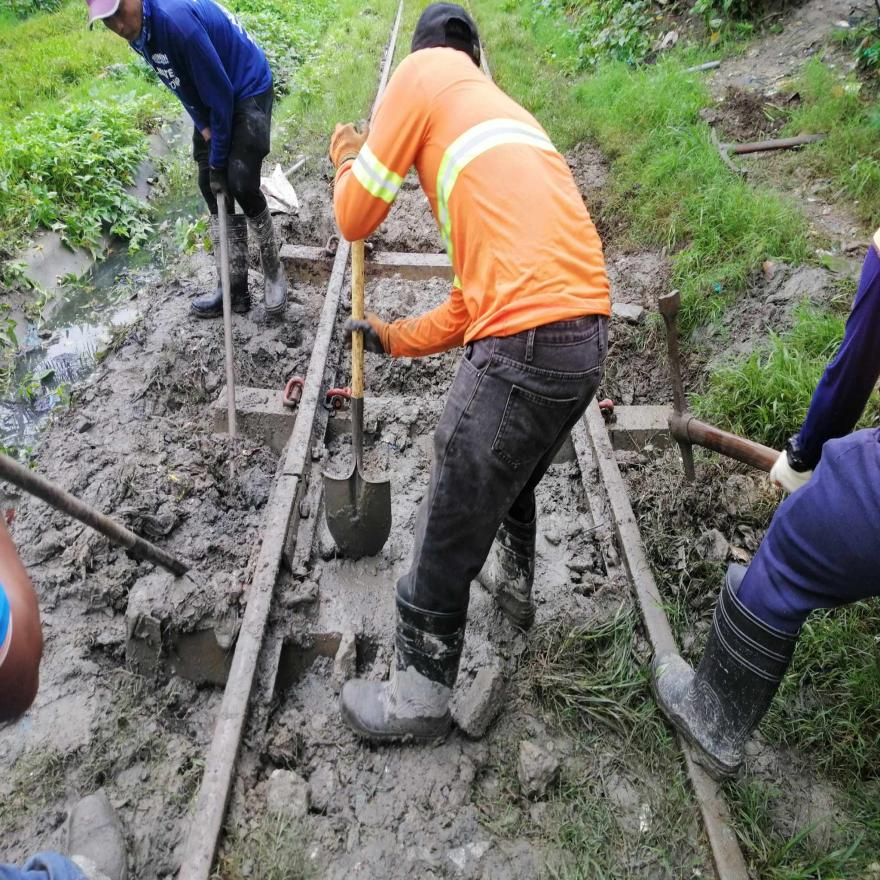railway-gap: (263, 440, 320, 512)
